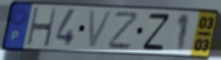1: (174, 13, 190, 54)
4: (53, 7, 78, 50)
H: (25, 7, 58, 49)
V: (87, 9, 116, 50)
Z: (107, 11, 141, 51), (141, 12, 172, 52)
